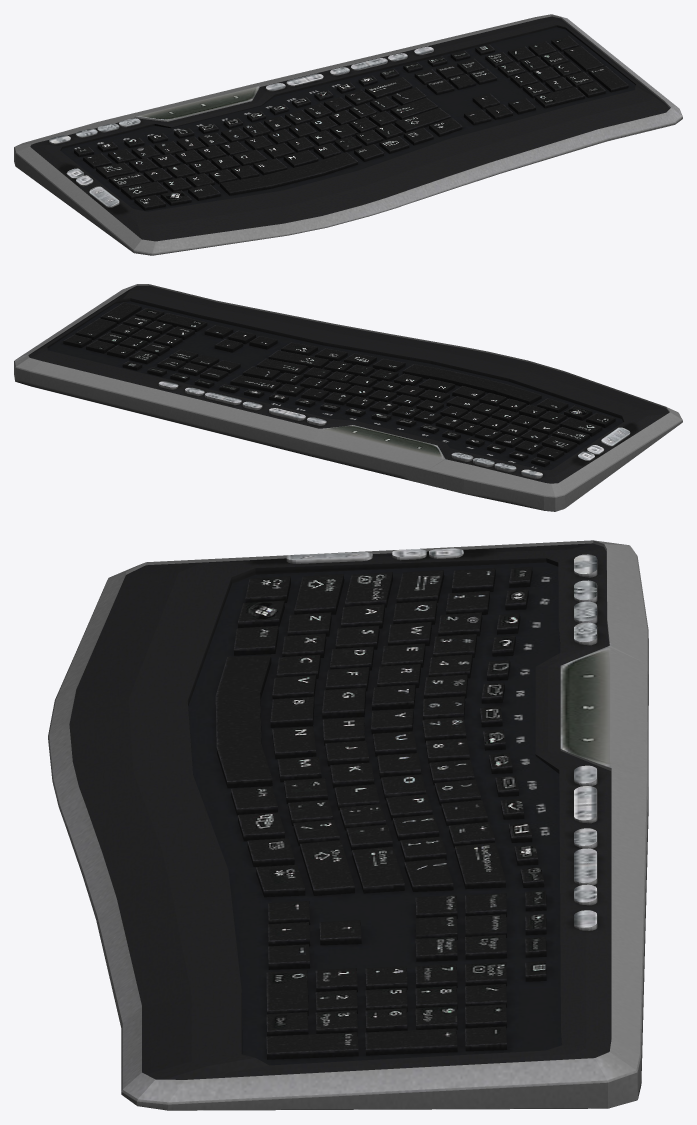
The model's file is keyboard.fbx.
The picture shows the model from 3 angles, top to bottom: view 1: azimuth 30°, elevation 25°; view 2: azimuth 150°, elevation 25°; view 3: azimuth 270°, elevation 25°; orthographic projection. The views are drawn at different scales.
Parts seen in each view (by area): view 1: 10105_Computer Keyboard_v1_L3; view 2: 10105_Computer Keyboard_v1_L3; view 3: 10105_Computer Keyboard_v1_L3.
Part boxes in pixels (x1,y1,x2,y2): 10105_Computer Keyboard_v1_L3: (14,14,682,255); 10105_Computer Keyboard_v1_L3: (14,284,682,511); 10105_Computer Keyboard_v1_L3: (48,540,648,1110).
Size of the model in its own units: 57.48 by 2.25 by 27.05.
Materials: 1 (1 with a texture image).
